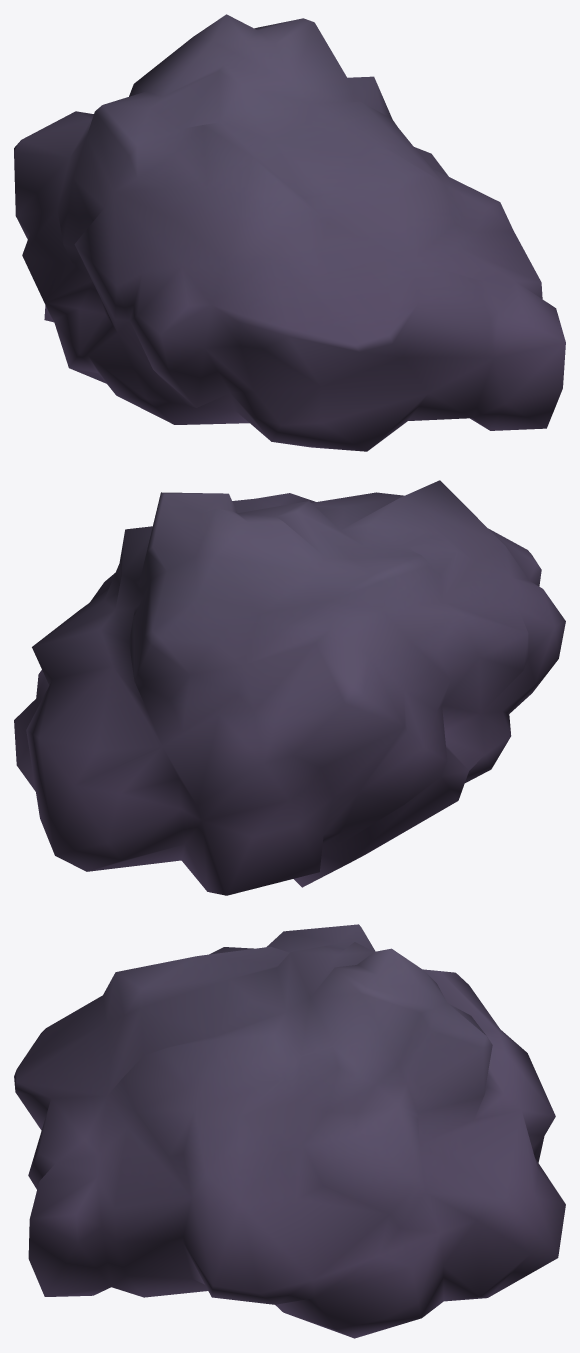
Rendered from rock.002.fbx.
The picture shows the model from 3 angles, top to bottom: view 1: azimuth 30°, elevation 25°; view 2: azimuth 150°, elevation 25°; view 3: azimuth 270°, elevation 25°; orthographic projection. The views are drawn at different scales.
Visible parts, largest first — view 1: rock.002; view 2: rock.002; view 3: rock.002.
Boxes of the visible parts, box(x1,y1,x2,y2) form: rock.002: box(14, 14, 565, 451); rock.002: box(14, 480, 565, 895); rock.002: box(14, 924, 565, 1338).
Bounding box in the file's own units: 342 × 268 × 400.
